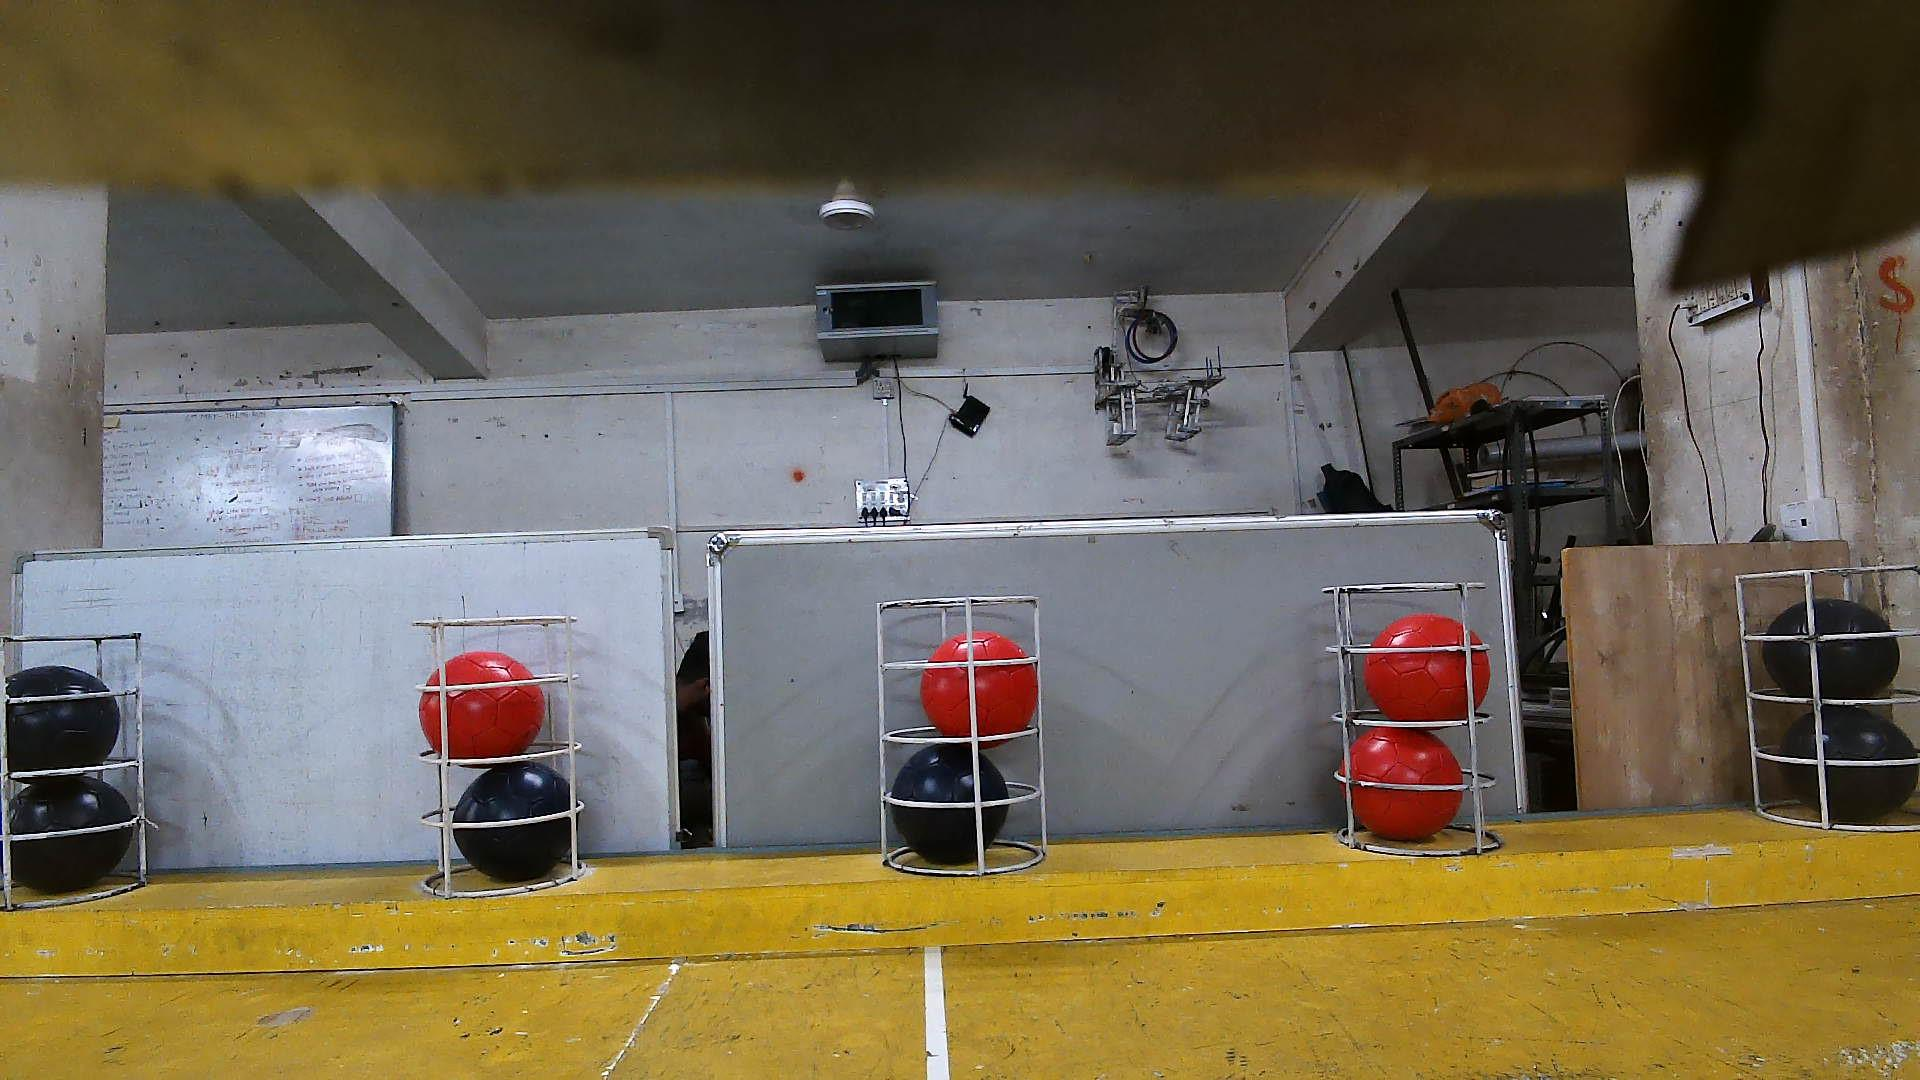dhoka: (8, 775, 133, 895), (1782, 705, 1919, 815), (452, 761, 571, 882), (893, 744, 1007, 862), (1764, 600, 1902, 698), (5, 665, 119, 771)
laale: (419, 651, 545, 758), (1346, 729, 1461, 844), (1369, 615, 1491, 720), (918, 630, 1035, 735)
